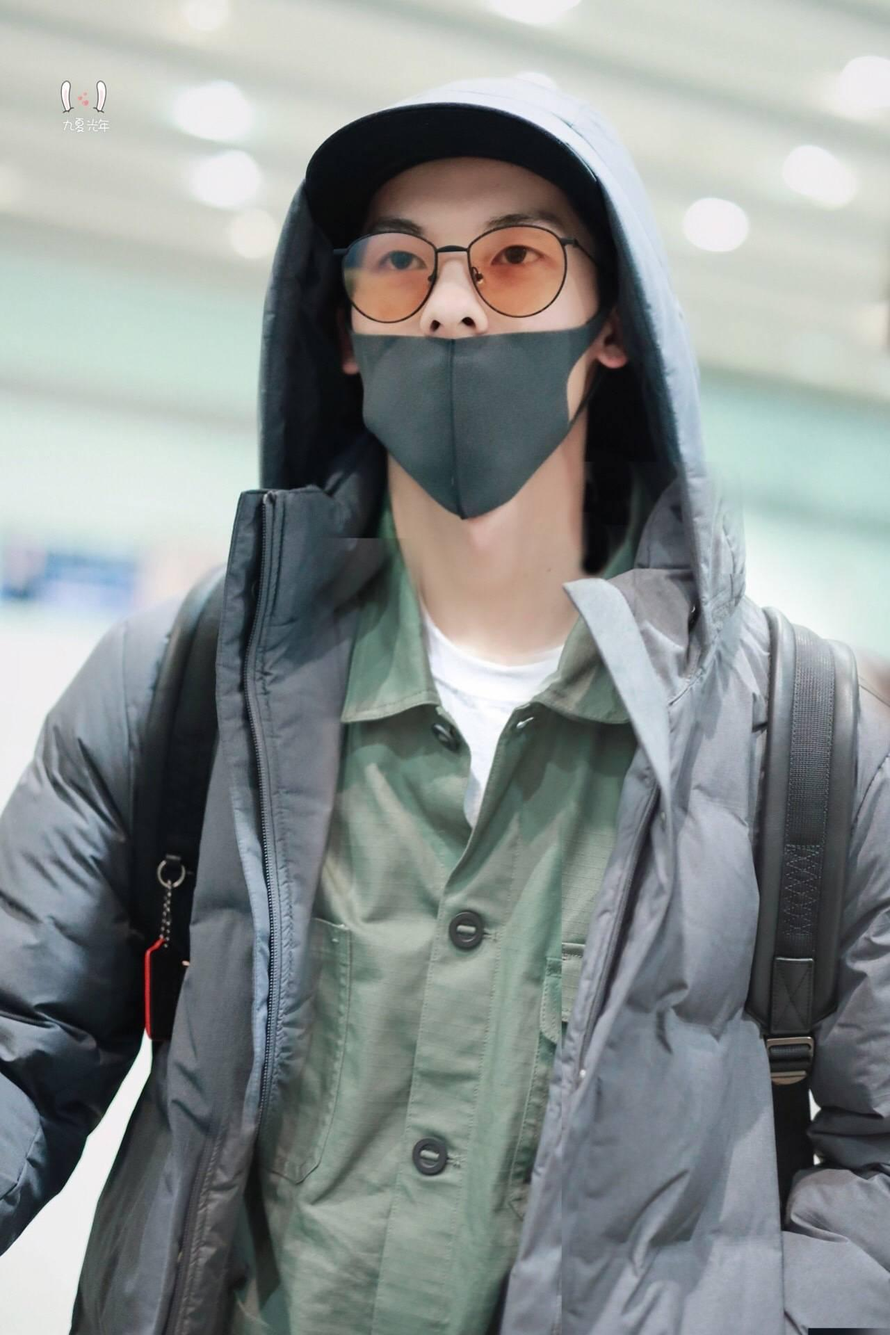WRONG: (350, 191, 585, 508)
